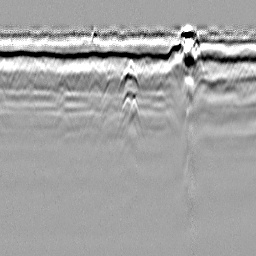cavity: (116, 55, 140, 89)
